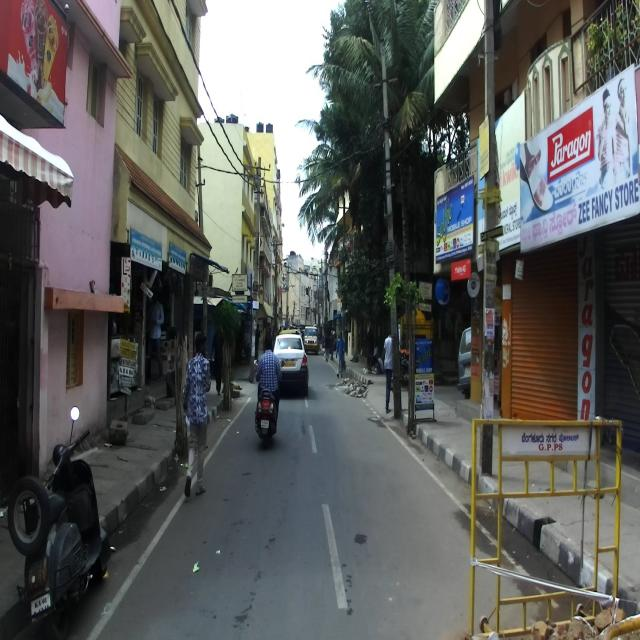car: (269, 332, 309, 398)
scooter: (6, 404, 111, 640), (253, 358, 285, 450)
truck: (304, 323, 318, 354)
